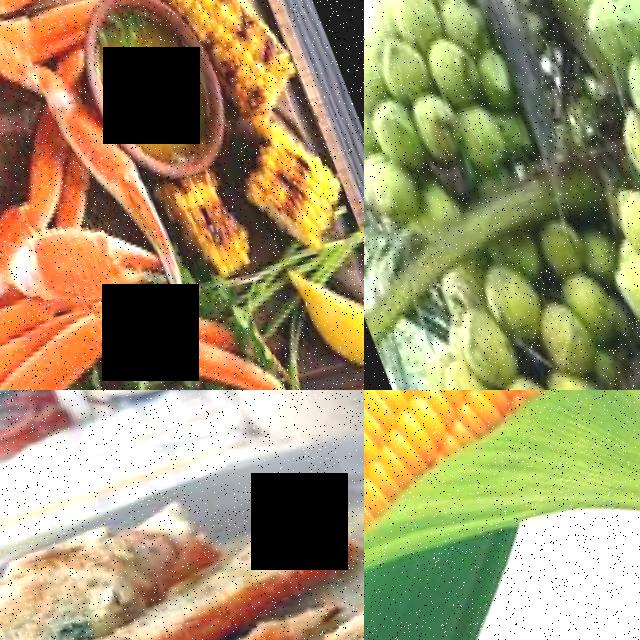coconuts: (382, 225, 640, 390), (364, 0, 539, 227), (534, 0, 640, 184)
corn: (364, 390, 640, 525), (364, 390, 476, 640)
crab: (0, 171, 158, 390), (0, 0, 100, 265)
